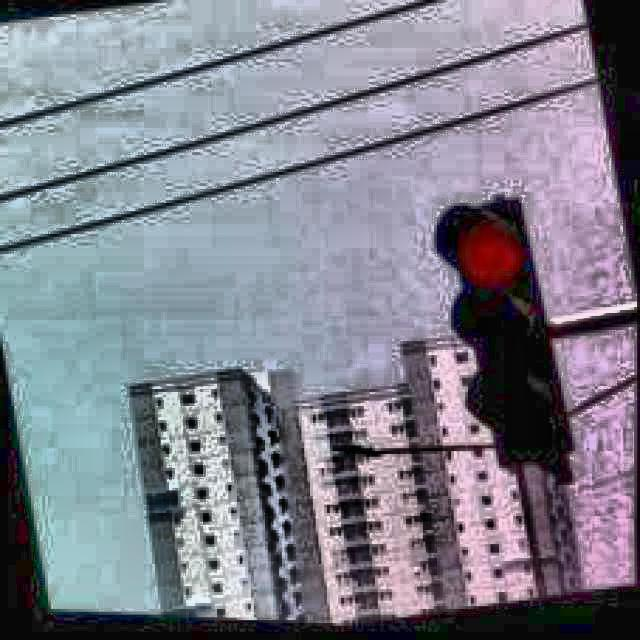red: (438, 195, 559, 477)
